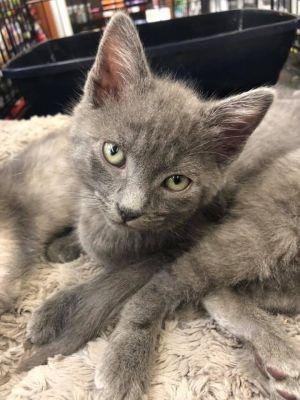rblue: (36, 1, 283, 278)
